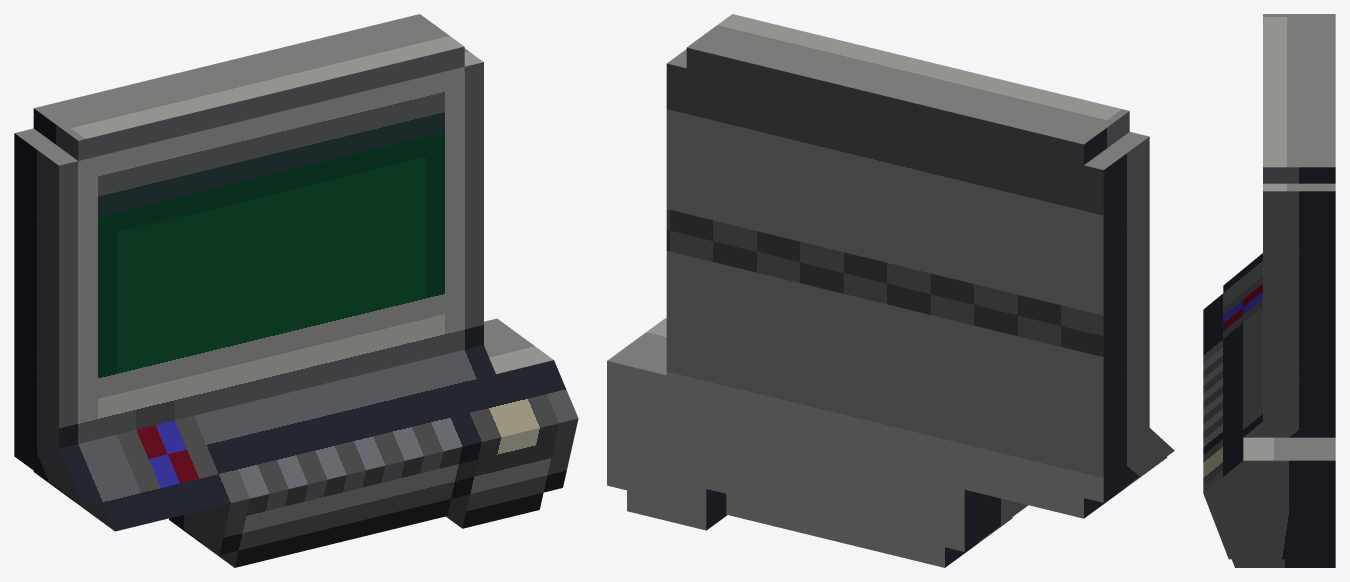
Rendered from newscaster_assembly.glb.
The picture shows the model from 3 angles, left to right: view 1: azimuth 30°, elevation 25°; view 2: azimuth 150°, elevation 25°; view 3: azimuth 270°, elevation 25°; orthographic projection. The views are drawn at different scales.
Parts seen in each view (by area): view 1: Continuous_Housing; view 2: Continuous_Housing; view 3: Continuous_Housing.
Boxes of the visible parts, x1,y1,x2,y2 form: Continuous_Housing: (14, 14, 578, 567); Continuous_Housing: (607, 14, 1174, 567); Continuous_Housing: (1203, 14, 1335, 567).
Size of the model in its own units: 0.7031 by 0.6469 by 0.2053.
Materials: 1 (1 with a texture image).
